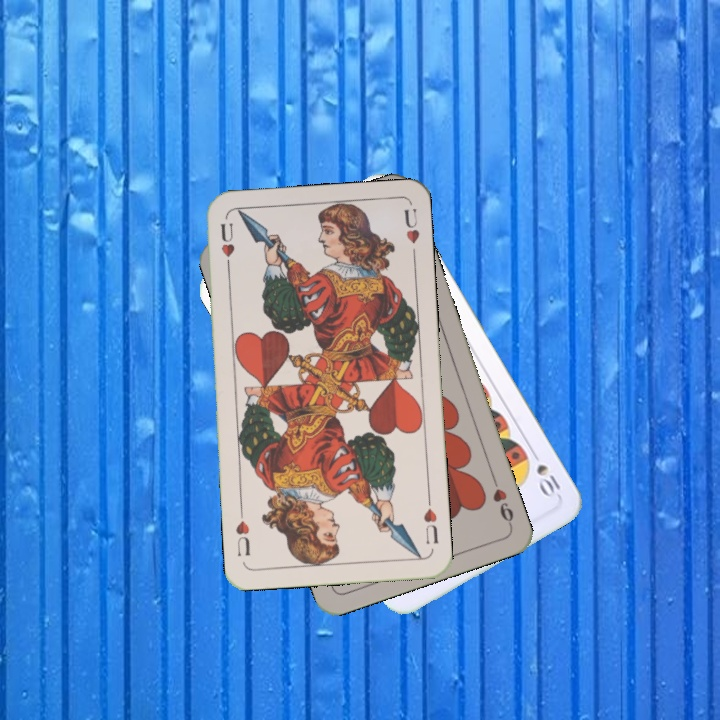H9: (487, 472, 516, 529)
HU: (419, 493, 441, 547), (216, 219, 237, 274)
S10: (527, 445, 563, 501)
